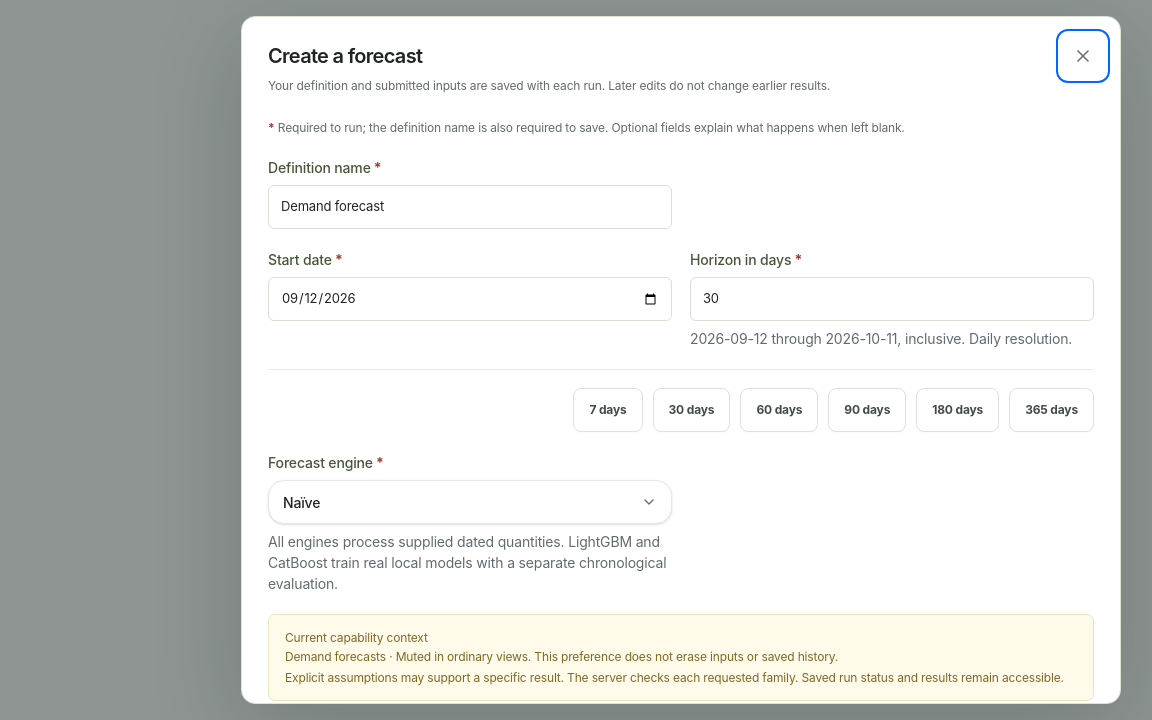
Test case: the year shortcut states its inclusive last day and muted data remains an explicit context
Click the button "365 days" at (1052, 410), box [1009,388,1094,432]
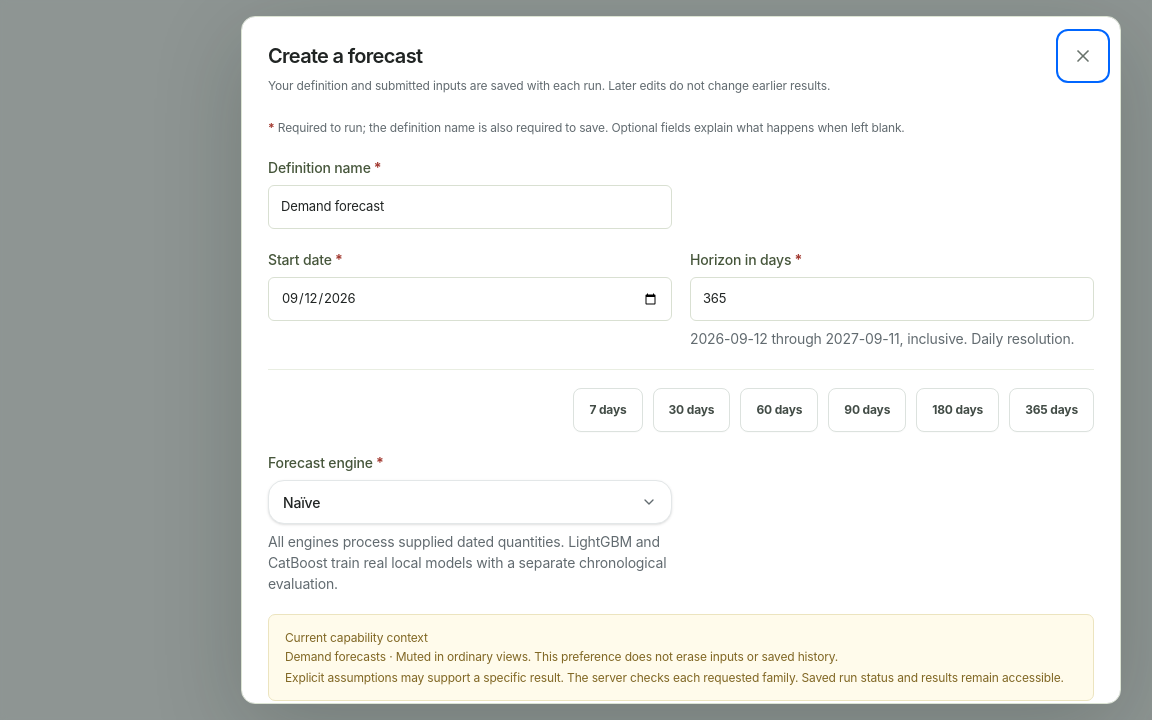
Expected: the list item "Muted in ordinary views" is shown, [396,649,838,664]
Now the text "2026-09-12 through 2027-09-11, inclusive. Daily resolution." is shown, box [690,328,1094,349]
